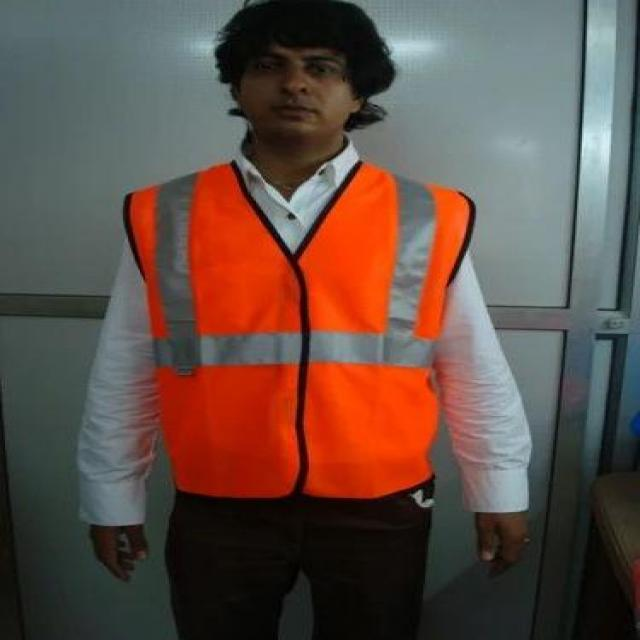Reflective-Jacket: (101, 154, 488, 506)
